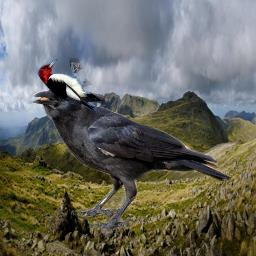Crow: (32, 85, 231, 231)
Woodpecker: (30, 55, 109, 114)
